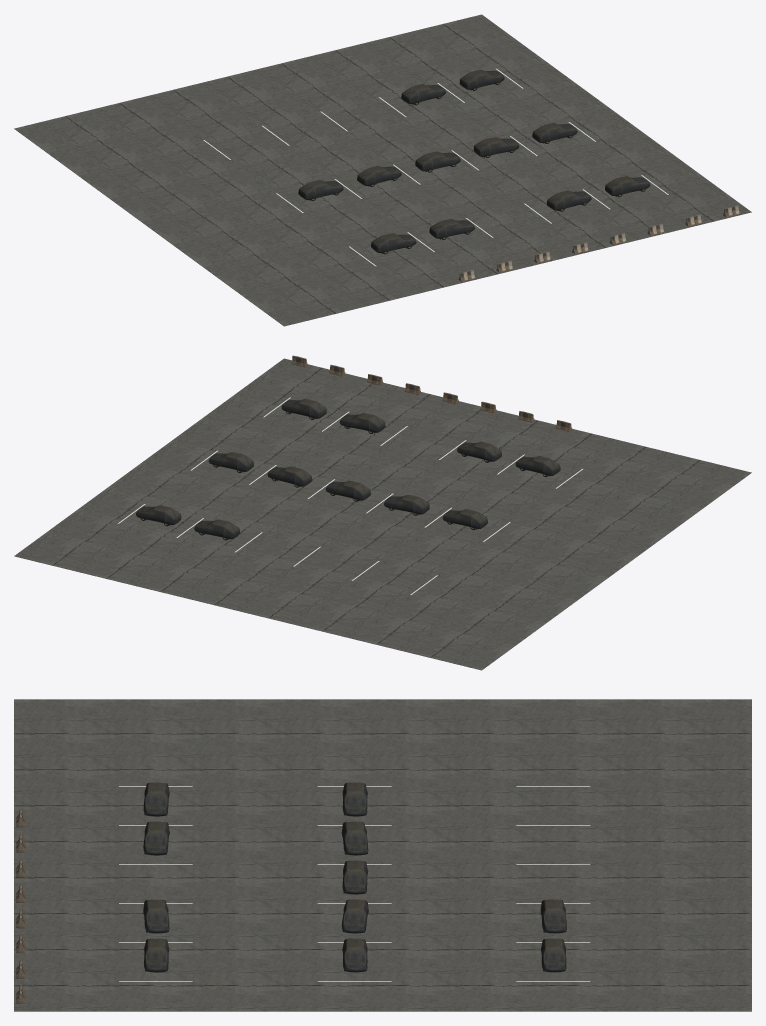
Rendered from chunk_Parking_NW.glb.
3 renders of one model, top to bottom at view 1: azimuth 30°, elevation 25°; view 2: azimuth 150°, elevation 25°; view 3: azimuth 270°, elevation 25°, orthographic. The views are drawn at different scales.
Parts seen in each view (by area): view 1: ParkingLot, covered_car.015, covered_car.017, covered_car.012, covered_car.014, covered_car.018, covered_car.020, covered_car.016, covered_car.021, covered_car.019, covered_car.013, covered_car.022; view 2: ParkingLot, covered_car.013, covered_car.021, covered_car.022, covered_car.019, covered_car.020, covered_car.016, covered_car.018, covered_car.015, covered_car.012, covered_car.014, covered_car.017; view 3: ParkingLot, covered_car.013, covered_car.020, covered_car.021, covered_car.014, covered_car.015, covered_car.016, covered_car.017, covered_car.018, covered_car.022, covered_car.012, covered_car.019.
Part boxes in pixels (x1,y1,x2,y2): ParkingLot: (14,14,751,326); covered_car.015: (371,233,416,253); covered_car.017: (473,137,519,157); covered_car.012: (605,176,650,196); covered_car.014: (429,219,474,239); covered_car.018: (415,151,460,171); covered_car.020: (298,180,343,200); covered_car.016: (532,123,577,143); covered_car.021: (459,69,504,90); covered_car.019: (357,166,401,186); covered_car.013: (546,190,591,210); covered_car.022: (401,84,445,104); ParkingLot: (14,358,751,670); covered_car.013: (339,413,385,433); covered_car.021: (136,505,181,525); covered_car.022: (194,519,239,539); covered_car.019: (384,495,429,514); covered_car.020: (442,509,487,529); covered_car.016: (208,452,253,472); covered_car.018: (325,480,370,500); covered_car.015: (515,456,560,476); covered_car.012: (281,399,326,419); covered_car.014: (457,441,501,462); covered_car.017: (267,466,312,486); ParkingLot: (14,699,751,1011); covered_car.013: (143,899,169,933); covered_car.020: (342,782,367,816); covered_car.021: (541,938,566,972); covered_car.014: (143,821,169,855); covered_car.015: (143,782,169,816); covered_car.016: (342,938,367,972); covered_car.017: (341,899,368,933); covered_car.018: (342,860,368,894); covered_car.022: (540,899,566,933); covered_car.012: (144,938,169,972); covered_car.019: (341,821,368,855).
Size of the model in its own units: 52 by 1.43 by 52.
Materials: 5 (4 with a texture image).
